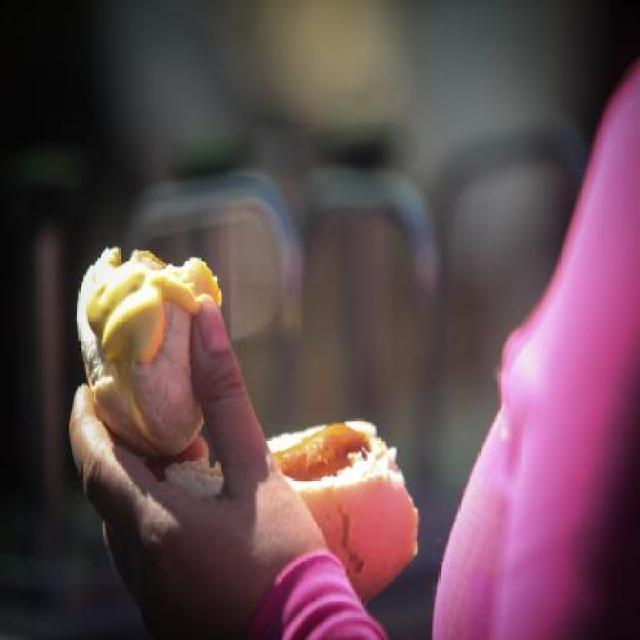Hot dog: (164, 412, 422, 610)
